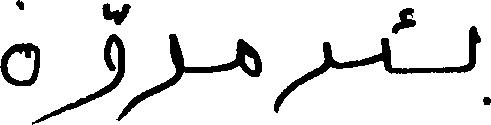X: (41, 0, 125, 124), (127, 0, 184, 118), (0, 0, 39, 124), (276, 37, 330, 117), (467, 21, 490, 109), (238, 34, 261, 81), (381, 33, 389, 77)
